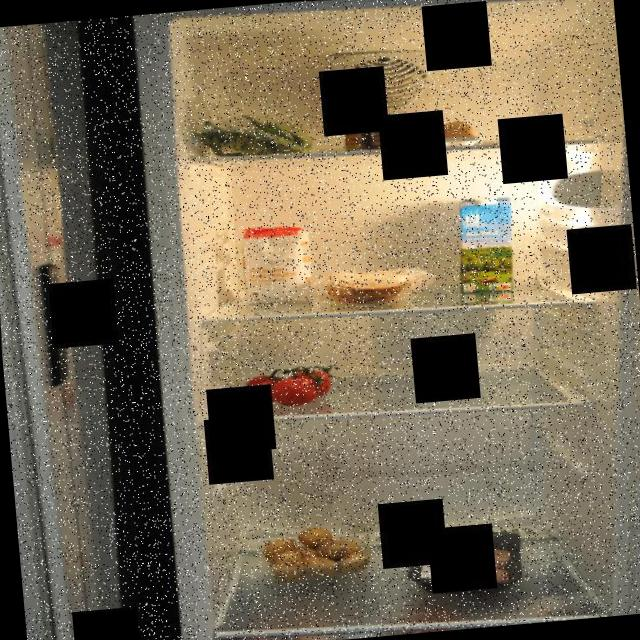Carne pollo: (416, 532, 516, 594)
Huevos: (408, 112, 479, 150)
Leche: (452, 192, 518, 304)
Patata: (259, 522, 372, 591)
Tomate: (240, 356, 340, 412)
bread: (318, 261, 417, 308)
corn: (338, 110, 398, 154)
spinach: (182, 103, 318, 164)
sugar: (235, 218, 318, 310)
